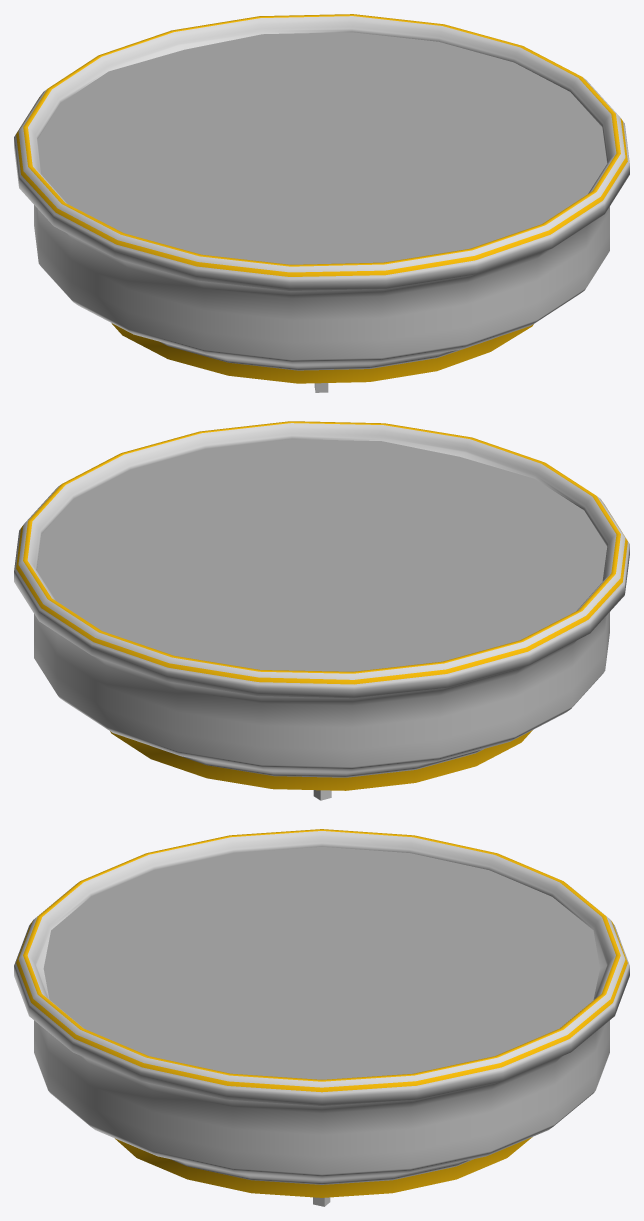
File: fly_platform1.fbx
The picture shows the model from 3 angles, top to bottom: view 1: azimuth 30°, elevation 25°; view 2: azimuth 150°, elevation 25°; view 3: azimuth 270°, elevation 25°; orthographic projection.
Visible parts, largest first — view 1: pCylinder1; view 2: pCylinder1; view 3: pCylinder1.
Boxes of the visible parts, bbox=[...] form: pCylinder1: bbox=[14, 14, 629, 392]; pCylinder1: bbox=[14, 421, 629, 800]; pCylinder1: bbox=[14, 829, 629, 1206].
Size of the model in its own units: 81.98 by 36.43 by 81.98.
3 materials, 1 textured.
